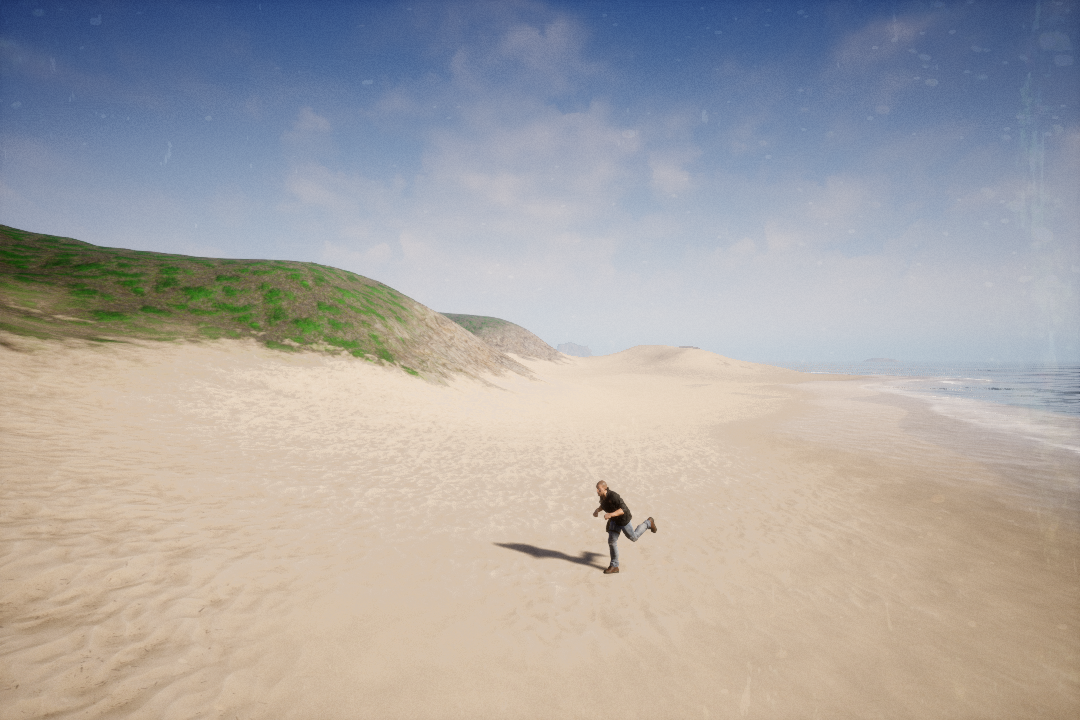person: (591, 479, 660, 576)
